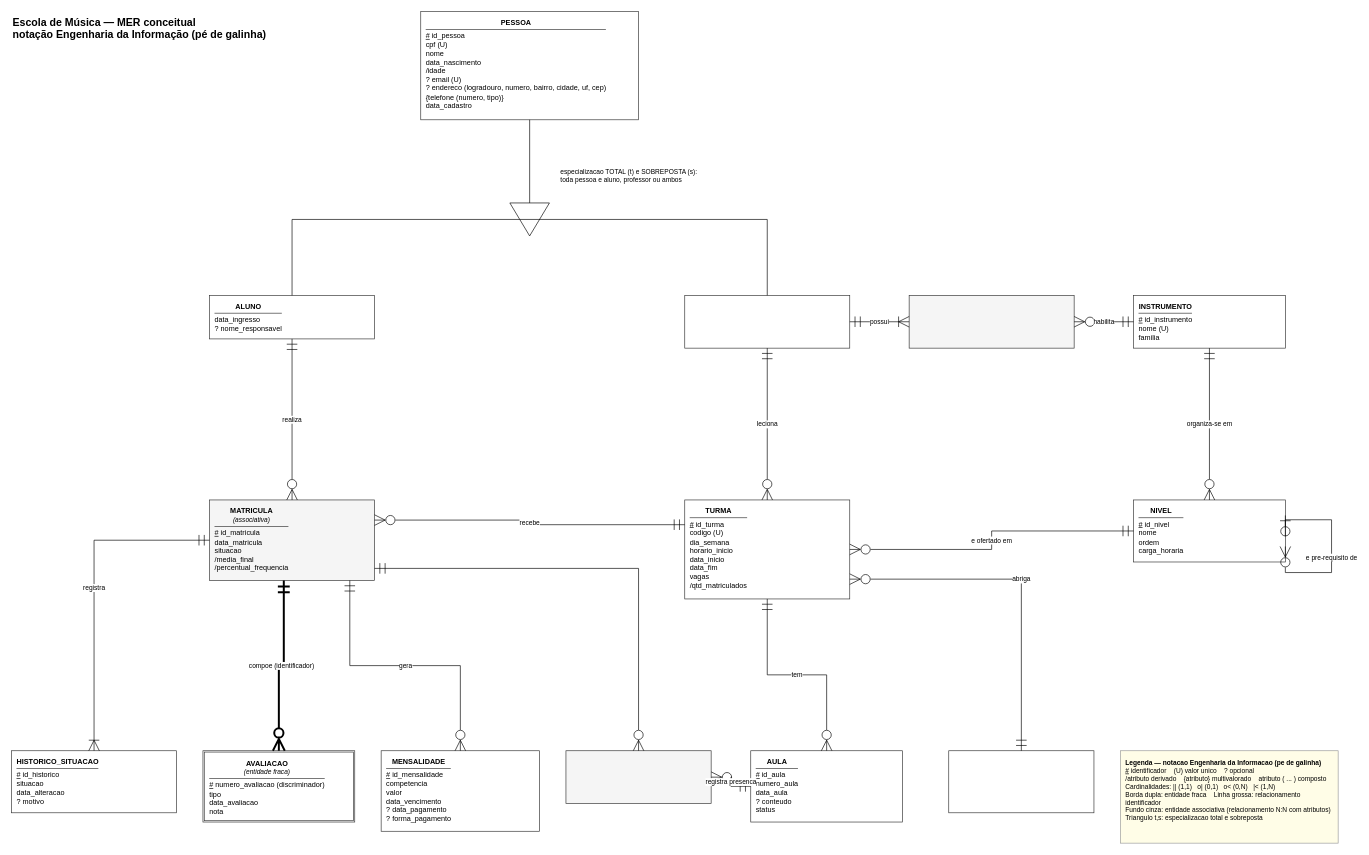
Image size: 1369x855. Some labels were removed from this diagram. The shapes that lost their labels are listed below. From the top down, each one's box as (x1, y1, x2, y2) in pixels, then its label:
(509, 202, 549, 236): t, s
(684, 295, 850, 348): PROFESSOR data_admissao valor_hora ? formacao
(908, 295, 1074, 348): HABILITACAO (associativa) nivel_proficiencia data_certificacao
(565, 750, 711, 804): FREQUENCIA (associativa) presente ? justificativa
(948, 750, 1094, 813): SALA # id_sala nome (U) capacidade possui_piano
